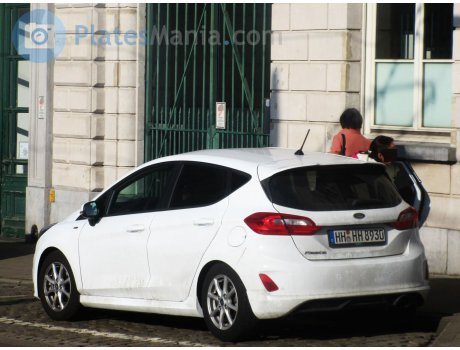License Plates: (335, 228, 381, 241)
